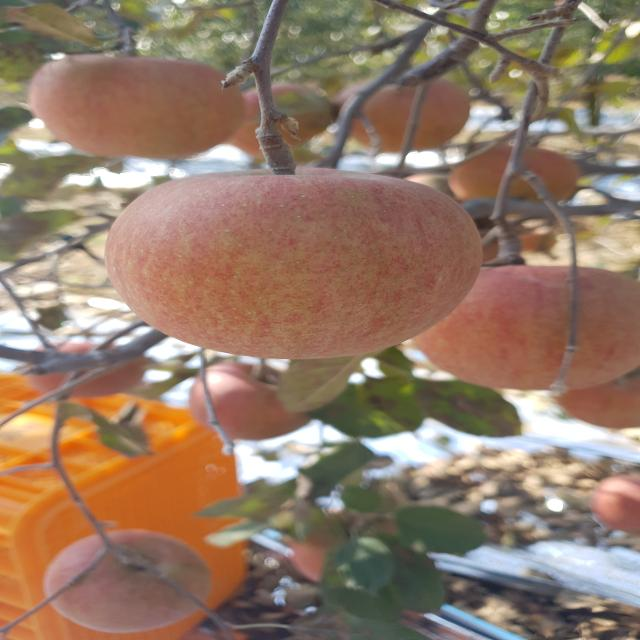fresh: (92, 165, 500, 368)
